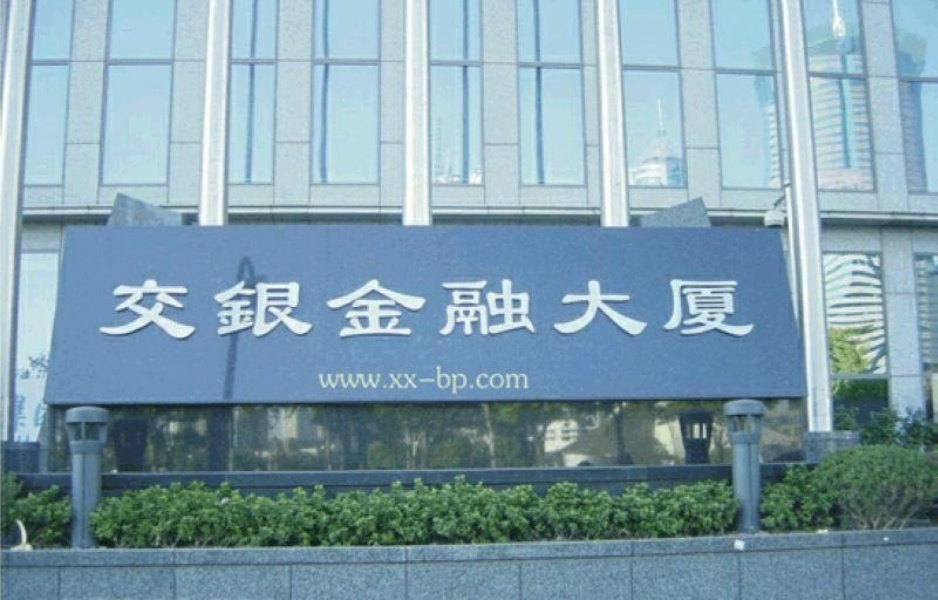text: (97, 274, 112, 340), (113, 274, 128, 340), (129, 274, 144, 340), (145, 274, 160, 340), (161, 274, 176, 340), (177, 274, 192, 340), (193, 274, 208, 340), (209, 274, 224, 340), (225, 274, 240, 340), (241, 274, 256, 340), (257, 274, 272, 340), (273, 274, 288, 340), (289, 274, 304, 340), (305, 274, 320, 340), (321, 274, 336, 340), (337, 274, 352, 340), (353, 274, 368, 340), (369, 274, 384, 340), (385, 274, 400, 340), (401, 274, 416, 340), (417, 274, 432, 340), (433, 274, 448, 340), (449, 274, 464, 340), (465, 274, 480, 340), (481, 274, 496, 340), (497, 274, 512, 340), (513, 274, 528, 340), (529, 274, 544, 340), (545, 274, 560, 340), (561, 274, 576, 340), (577, 274, 592, 340), (593, 274, 608, 340), (609, 274, 624, 340), (625, 274, 640, 340), (641, 274, 656, 340), (657, 274, 672, 340), (673, 274, 688, 340), (689, 274, 704, 340), (705, 274, 720, 340), (721, 274, 736, 340), (737, 274, 752, 340), (321, 365, 336, 397), (337, 365, 352, 397), (353, 365, 368, 397), (369, 365, 384, 397), (385, 365, 400, 397), (401, 365, 416, 397), (417, 365, 432, 397), (433, 365, 448, 397), (449, 365, 464, 397), (465, 365, 480, 397), (481, 365, 496, 397), (497, 365, 512, 397), (513, 365, 528, 397), (753, 274, 759, 340), (317, 365, 320, 397), (529, 365, 530, 397)
